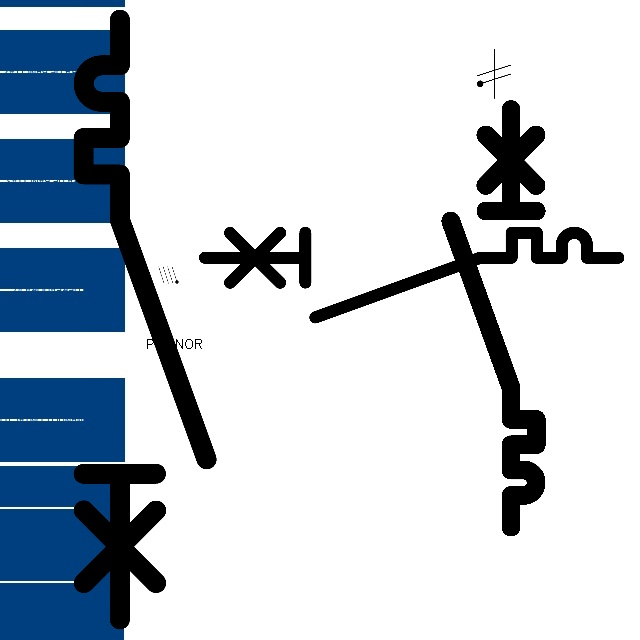interruptor_termomagnetico: (68, 4, 222, 634), (440, 98, 547, 537), (194, 222, 628, 328)
